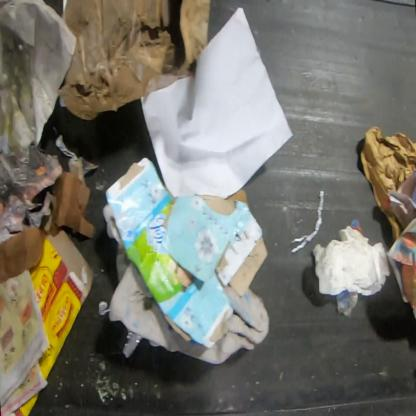cardboard: (104, 157, 268, 350), (58, 0, 212, 119), (32, 230, 93, 383)
